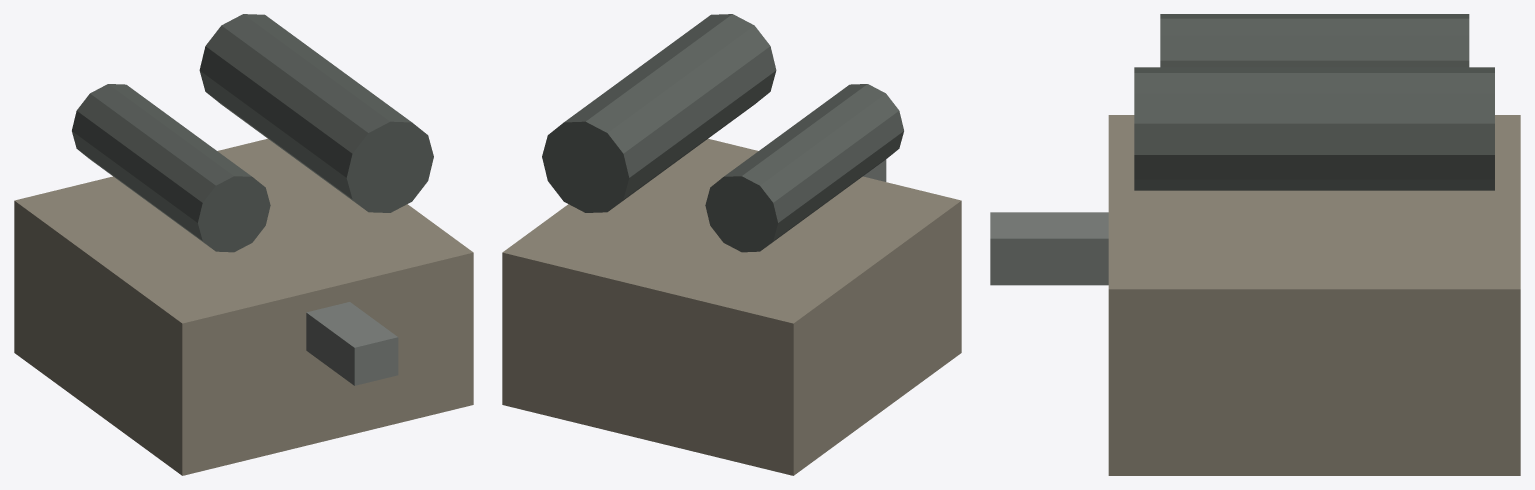
The model's file is refinery.glb.
The picture shows the model from 3 angles, left to right: view 1: azimuth 30°, elevation 25°; view 2: azimuth 150°, elevation 25°; view 3: azimuth 270°, elevation 25°; orthographic projection. The views are drawn at different scales.
Parts seen in each view (by area): view 1: p0, p2, p1, p3; view 2: p0, p2, p1; view 3: p0, p2, p1, p3.
Part boxes in pixels (x1=…): p0: x1=14, y1=138, x2=473, y2=475; p2: x1=199, y1=14, x2=433, y2=212; p1: x1=72, y1=84, x2=270, y2=252; p3: x1=306, y1=302, x2=398, y2=385; p0: x1=502, y1=138, x2=961, y2=475; p2: x1=542, y1=14, x2=776, y2=212; p1: x1=705, y1=84, x2=903, y2=252; p0: x1=1108, y1=115, x2=1520, y2=475; p2: x1=1134, y1=67, x2=1494, y2=190; p1: x1=1160, y1=14, x2=1469, y2=67; p3: x1=990, y1=212, x2=1108, y2=285.
Size of the model in its own units: 8 by 7.7 by 10.3.
